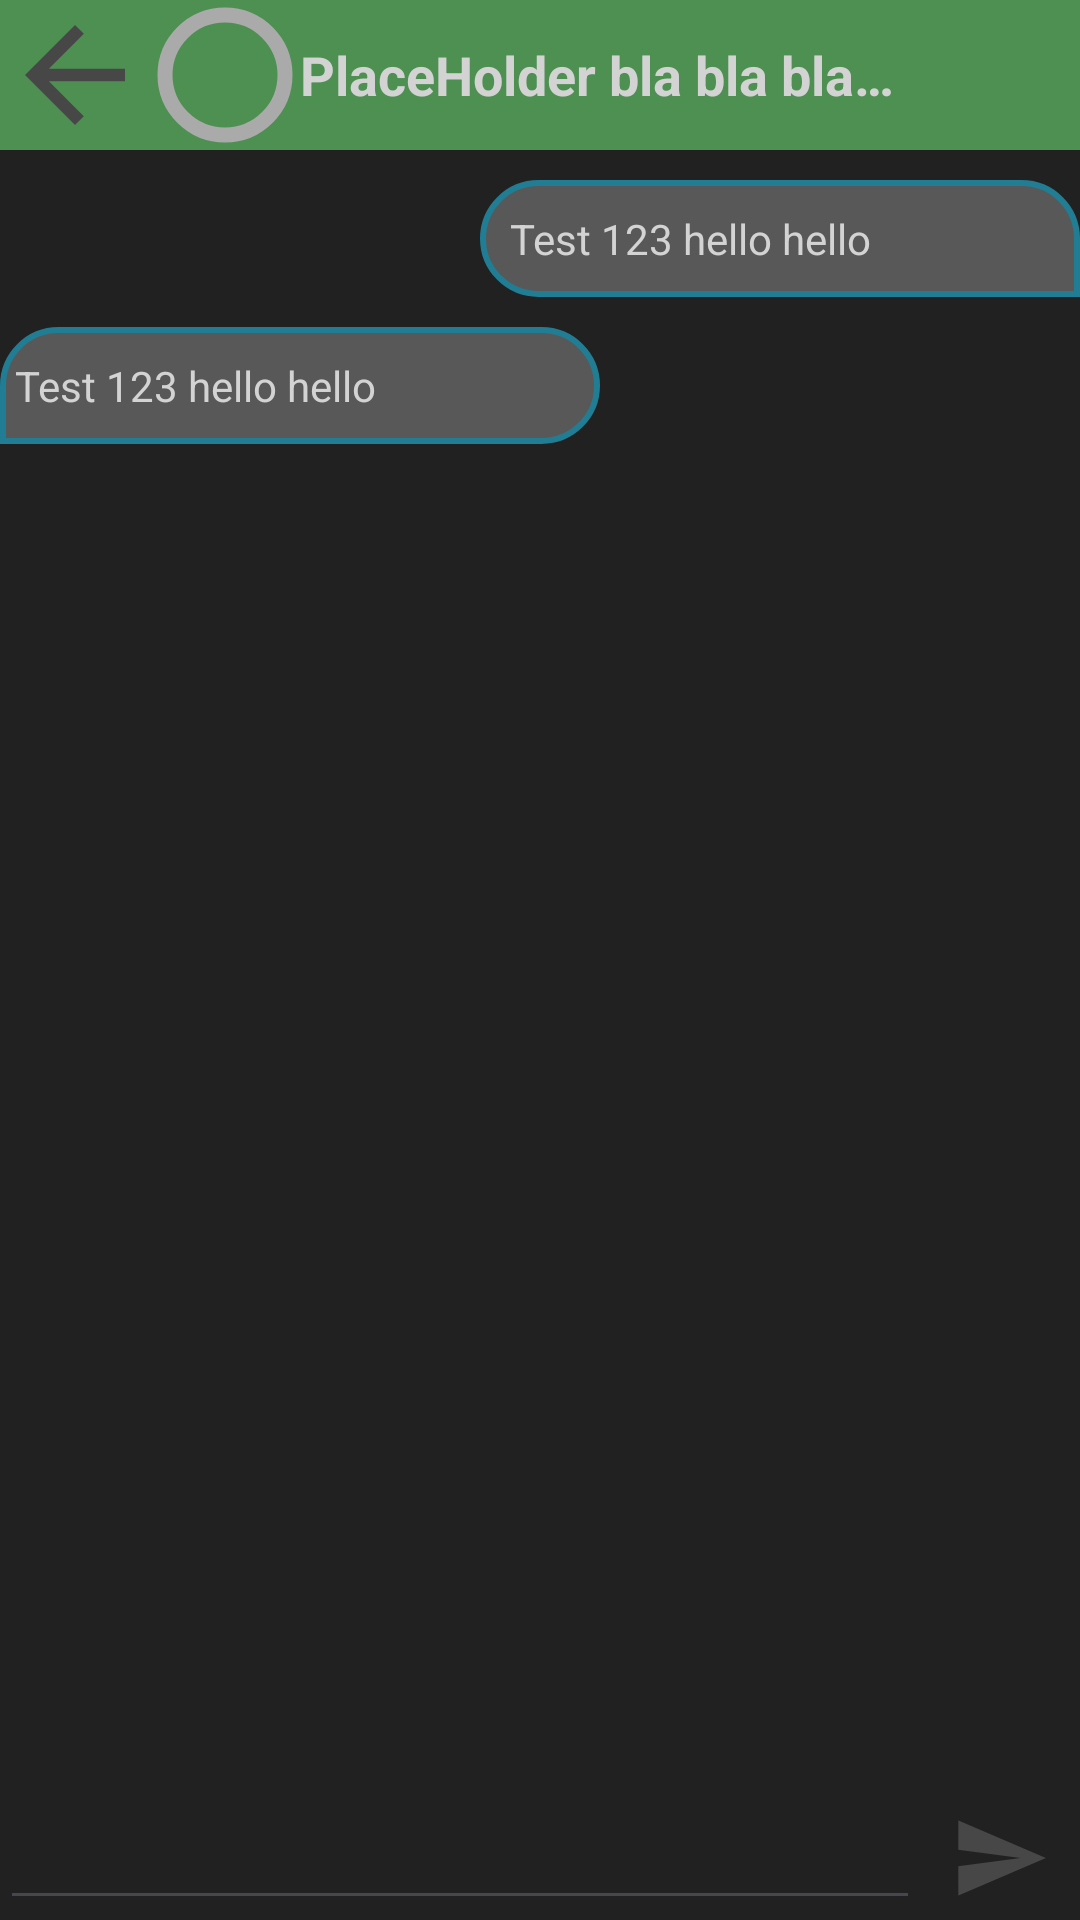

Screen size 1080x1920. Icon name, then its box in pixels as (x1, y1, x2, y2):
arrow back: (25, 25, 125, 125)
send: (958, 1821, 1044, 1895)
